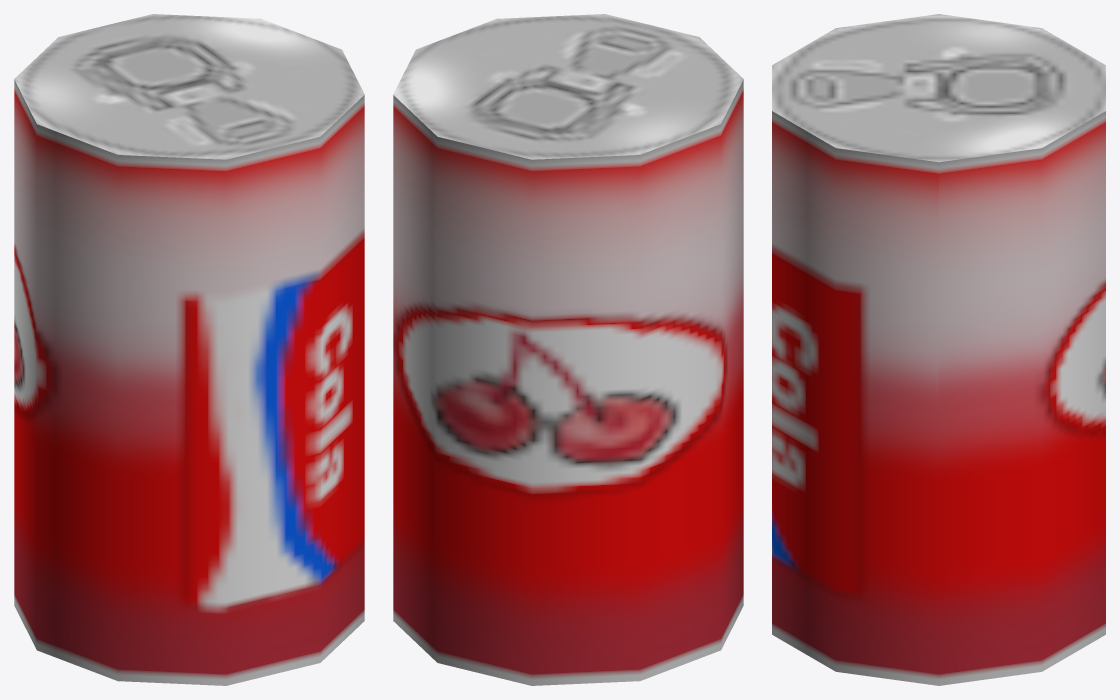
File: giftgoods083d.fbx
3 views of the same model, side by side, from view 1: azimuth 30°, elevation 25°; view 2: azimuth 150°, elevation 25°; view 3: azimuth 270°, elevation 25° (orthographic).
Parts seen in each view (by area): view 1: giftgoods083d; view 2: giftgoods083d; view 3: giftgoods083d.
Boxes of the visible parts, bbox=[...] form: giftgoods083d: bbox=[14, 14, 364, 685]; giftgoods083d: bbox=[393, 14, 743, 685]; giftgoods083d: bbox=[772, 14, 1105, 685].
Bounding box in the file's own units: 0.0989 × 0.1628 × 0.094.
